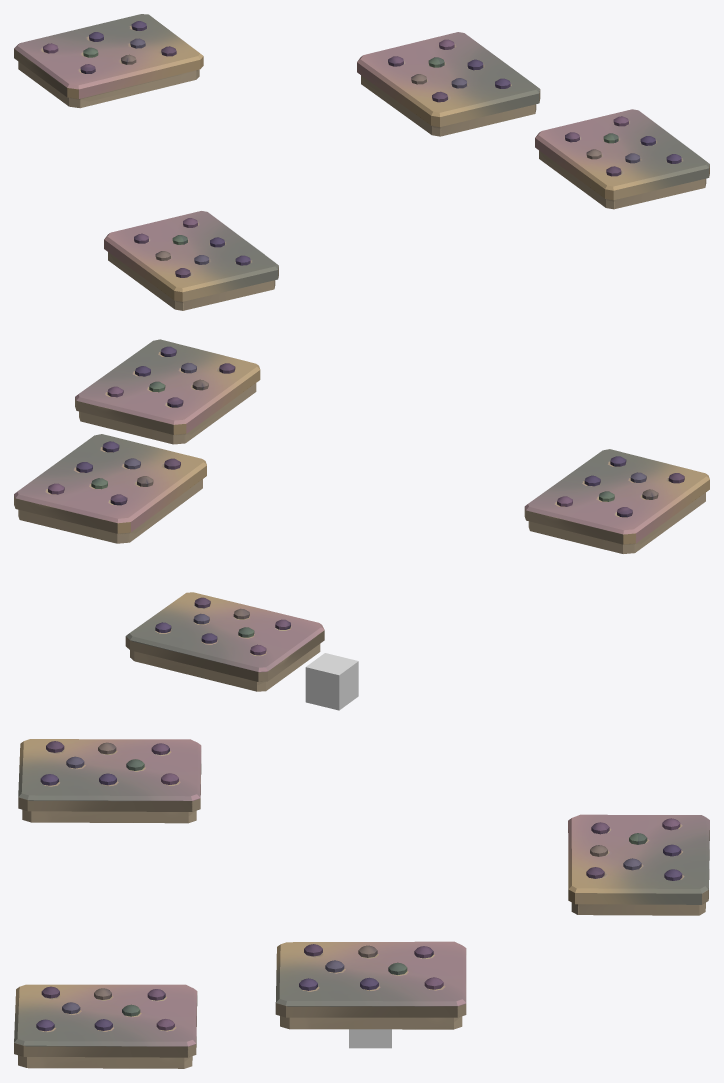
Rendered from award-floor001.fbx.
3 views of the same model, one above another, from view 1: azimuth 30°, elevation 25°; view 2: azimuth 150°, elevation 25°; view 3: azimuth 270°, elevation 25° (orthographic). The views are drawn at different scales.
Visible parts, largest first — view 1: floor.015, floor.017, floor.014, floor.016; view 2: floor.015, floor.017, floor.016, floor.014, award-floor001; view 3: floor.015, floor.016, floor.014, floor.017, award-floor001.
Boxes of the visible parts, box(x1,y1,x2,y2) form: floor.015: box(357, 32, 540, 136); floor.017: box(14, 14, 203, 108); floor.014: box(104, 211, 278, 310); floor.016: box(535, 109, 709, 209); floor.015: box(14, 434, 206, 543); floor.017: box(125, 592, 324, 691); floor.016: box(75, 339, 260, 444); floor.014: box(524, 449, 709, 553); award-floor001: box(305, 653, 358, 710); floor.015: box(275, 941, 466, 1029); floor.016: box(14, 984, 197, 1068); floor.014: box(18, 739, 201, 823); floor.017: box(568, 814, 709, 915); award-floor001: box(349, 1029, 391, 1048).
Size of the model in its own units: 999 by 298 by 968.
